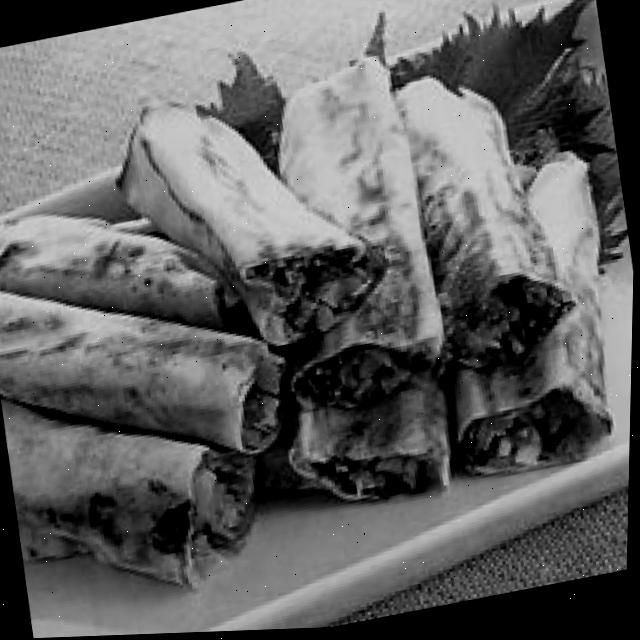鸡蛋料理: (0, 0, 640, 615)
